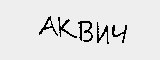А: (37, 14, 55, 37)
В: (80, 19, 94, 45)
И: (93, 22, 112, 47)
К: (57, 17, 76, 41)
Ч: (110, 22, 129, 44)
